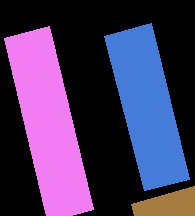parkingspot: (4, 26, 93, 216), (104, 23, 189, 190), (131, 186, 195, 216)
